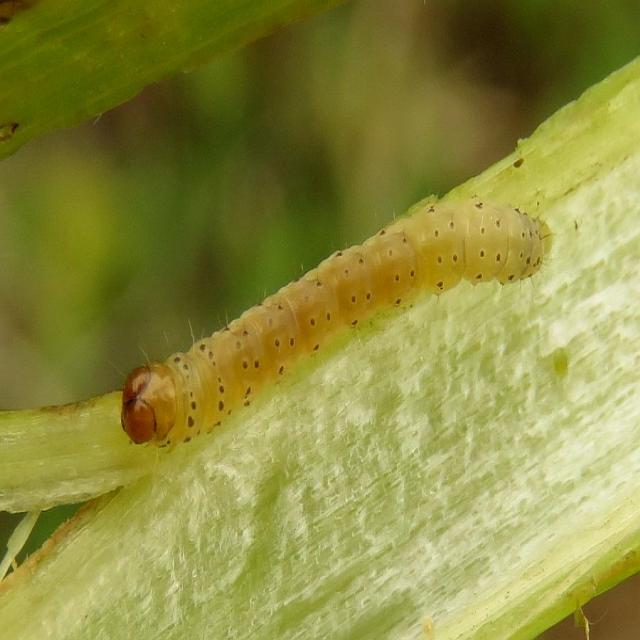cornborer-Larva-: (110, 171, 558, 460)
